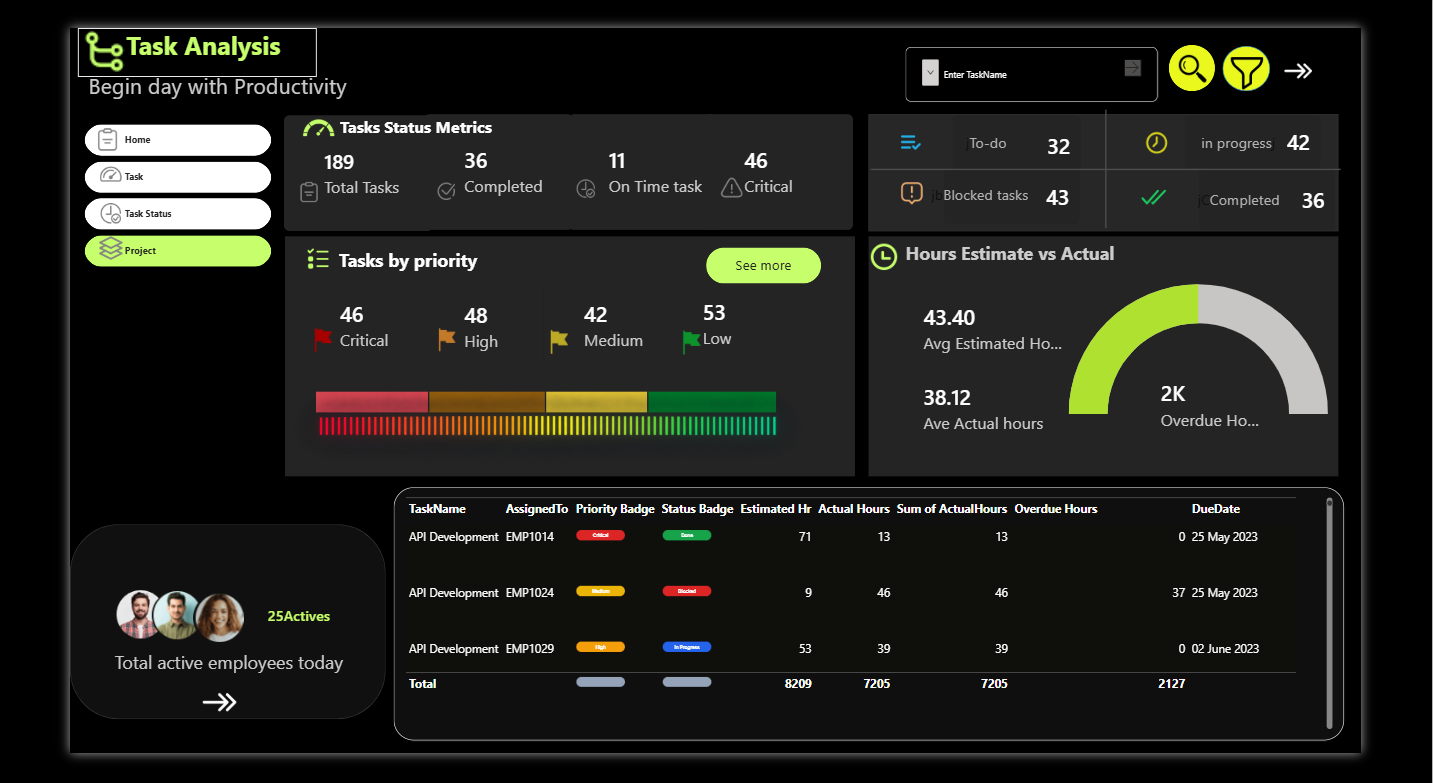

The dashboard page shown, as its layout file describes it:
{"tool":"powerbi","page":{"name":"Project","canvas":[1920,1080],"ordinal":3},"visuals":[{"type":"shape","box":[1715.1,25.9,70.8,67.4],"z":0},{"type":"shape","box":[1635.7,24.2,69.1,69.1],"z":1000},{"type":"shape","box":[0,737.5,469.8,290.2],"z":2000},{"type":"cardVisual","fields":{"Data":["_Measures.Active_Employee_Label"]},"box":[278.4,827.7,165.2,89.1],"z":3000},{"type":"textbox","box":[12.1,0,354.1,72.5],"z":4000},{"type":"pageNavigator","box":[21.7,143.3,278.1,212.4],"z":5000},{"type":"image","box":[43.3,200,35,35],"z":6000},{"type":"image","box":[43.3,258.3,35,35],"z":8000},{"type":"image","box":[43.3,310,35,35],"z":9000},{"type":"textbox","box":[60.5,925.8,364.4,51.8],"z":10000},{"type":"image","box":[29.4,818.7,264.3,107.1],"z":11000},{"type":"image","box":[60.5,977.6,324.7,50.1],"z":12000},{"type":"cardVisual","fields":{"Data":["_Measures.Total Tasks"]},"box":[318.2,129.9,222.7,172.6],"z":13000},{"type":"cardVisual","fields":{"Data":["_Measures.Completed Tasks"]},"box":[526.1,129.1,222.7,172.6],"z":14000},{"type":"cardVisual","fields":{"Data":["_Measures.On Time Projects"]},"box":[741.4,129.1,222.7,172.6],"z":15000},{"type":"cardVisual","fields":{"Data":["_Measures.Critical Tasks"]},"box":[943.6,129.1,222.7,172.6],"z":16000},{"type":"image","box":[338.7,226.4,35,35],"z":17000},{"type":"image","box":[540.9,229.4,37.1,26],"z":18000},{"type":"image","box":[964,220.1,42.7,35.3],"z":19000},{"type":"image","box":[748.8,223.8,39,31.5],"z":20000},{"type":"image","box":[338.5,119.2,63.1,57.5],"z":21000},{"type":"textbox","box":[401.8,129.9,302.5,52],"z":22000},{"type":"shape","box":[319.5,309.2,848.1,357.5],"z":23000},{"type":"textbox","box":[400.7,326.4,319.2,55.7],"z":24000},{"type":"image","box":[338.5,326.4,62.2,32.8],"z":25000},{"type":"cardVisual","fields":{"Data":["_Measures.High Tasks"]},"box":[526.2,380.3,178.2,129.9],"z":26000},{"type":"cardVisual","fields":{"Data":["_Measures.Low Tasks"]},"box":[882.1,369.9,203.8,139.9],"z":27000},{"type":"cardVisual","fields":{"Data":["_Measures.Critical Tasks"]},"box":[341.4,378.6,174.4,129.9],"z":28000},{"type":"cardVisual","fields":{"Data":["_Measures.Medium Tasks"]},"box":[705,378.3,185.6,129.9],"z":29000},{"type":"image","box":[357,442.5,40.8,44.5],"z":30000},{"type":"image","box":[541.8,442.5,39,44.5],"z":31000},{"type":"image","box":[704.2,445.9,50.1,41.5],"z":32000},{"type":"image","box":[904.5,445.9,41.5,43.2],"z":33000},{"type":"actionButton","box":[946,326.8,171,53.5],"z":34000},{"type":"textbox","box":[10,63.3,460,66.7],"z":35000},{"type":"barChart","fields":{"Y":["_Measures.Critical Tasks","_Measures.High Tasks","_Measures.Medium Tasks","_Measures.Low Tasks"]},"box":[350.6,445.6,756.5,222.8],"z":36000},{"type":"shape","box":[1188.3,309.2,699.5,357.5],"z":37000},{"type":"shape","box":[1188.3,127.8,699.5,174.4],"z":38000},{"type":"cardVisual","fields":{"Data":["_Measures.Average Estimated Hours"]},"box":[1210.8,404.2,293.6,84.6],"z":39000},{"type":"cardVisual","fields":{"Data":["_Measures.Average Hours per Task"]},"box":[1210.8,509.5,259.1,114],"z":40000},{"type":"textbox","box":[1243.6,316.1,342,51.8],"z":41000},{"type":"image","box":[1191.8,319.5,39.7,41.5],"z":42000},{"type":"gauge","fields":{"Y":["_Measures.Average Hours per Task"]},"box":[1469.9,326.4,418,304],"z":43000},{"type":"cardVisual","fields":{"Data":["_Measures.Overdue Hours"]},"box":[1563.1,509.5,233.2,103.6],"z":44000},{"type":"cardVisual","fields":{"Data":["In Review Tasks.Blocked Tasks"]},"box":[1300.6,210.7,203.8,82.9],"z":45000},{"type":"cardVisual","fields":{"Data":["In Review Tasks.Completed Tasks"]},"box":[1680.6,209,203.8,93.3],"z":46000},{"type":"cardVisual","fields":{"Data":["In Review Tasks.To Do Tasks"]},"box":[1312.7,129.5,191.7,89.8],"z":47000},{"type":"cardVisual","fields":{"Data":["In Review Tasks.In Progress Tasks"]},"box":[1658.1,129.5,203.8,79.5],"z":48000},{"type":"image","box":[1231.5,150.3,39.7,39.7],"z":49000},{"type":"image","box":[1585.6,226.3,55.3,50.1],"z":50000},{"type":"image","box":[1222.9,226.3,58.7,38],"z":51000},{"type":"image","box":[1585.6,152,63.9,38],"z":52000},{"type":"textbox","box":[1333.4,155.5,81.2,31.1],"z":53000},{"type":"textbox","box":[1678.9,240.1,148.5,31.1],"z":54000},{"type":"textbox","box":[1281.6,233.2,153.7,34.5],"z":55000},{"type":"textbox","box":[1678.9,155.5,141.6,29.4],"z":56000},{"type":"shape","box":[1191.8,198.6,699.5,24.2],"z":57000},{"type":"shape","box":[1191.8,120.9,699.5,176.2],"z":58000},{"type":"image","box":[1649.5,39.7,41.5,41.5],"z":60000},{"type":"image","box":[1718.6,43.2,65.6,48.4],"z":61000},{"type":"image","box":[1799.8,43.2,55.3,41.5],"z":62000},{"type":"textSlicer","fields":{"Values":["Tasks.TaskName"]},"box":[1243.6,27.6,374.8,81.2],"z":63000},{"type":"tableEx","fields":{"Values":["Tasks.TaskName","Tasks.AssignedTo","Tasks.Priority Badge","Tasks.Status Badge","Sum(Tasks.EstimatedHours)","In Review Tasks.Actual Hours","Sum(Tasks.ActualHours)","In Review Tasks.Overdue Hours","Tasks.DueDate"]},"box":[481.7,683.3,1414.6,376.5],"z":64000},{"type":"image","box":[310,443.3,808.3,318.3],"z":64001},{"type":"image","box":[0,0,105,70],"z":64002},{"type":"image","box":[11.7,146.7,88.3,38.3],"z":64003}]}

Visuals, with their boxes in screenshot pixels (x1, y1, x2, y2), scaled from the page's 1920x1080 canvas onto the 1433x783 screenshot:
shape: box=[1280, 19, 1333, 68]
shape: box=[1221, 18, 1272, 68]
shape: box=[0, 535, 351, 745]
cardVisual - _Measures.Active_Employee_Label: box=[208, 600, 331, 665]
textbox: box=[9, 0, 273, 53]
pageNavigator: box=[16, 104, 224, 258]
image: box=[32, 145, 58, 170]
image: box=[32, 187, 58, 213]
image: box=[32, 225, 58, 250]
textbox: box=[45, 671, 317, 709]
image: box=[22, 594, 219, 671]
image: box=[45, 709, 287, 745]
cardVisual - _Measures.Total Tasks: box=[237, 94, 404, 219]
cardVisual - _Measures.Completed Tasks: box=[393, 94, 559, 219]
cardVisual - _Measures.On Time Projects: box=[553, 94, 720, 219]
cardVisual - _Measures.Critical Tasks: box=[704, 94, 870, 219]
image: box=[253, 164, 279, 190]
image: box=[404, 166, 431, 185]
image: box=[719, 160, 751, 185]
image: box=[559, 162, 588, 185]
image: box=[253, 86, 300, 128]
textbox: box=[300, 94, 526, 132]
shape: box=[238, 224, 871, 483]
textbox: box=[299, 237, 537, 277]
image: box=[253, 237, 299, 260]
cardVisual - _Measures.High Tasks: box=[393, 276, 526, 370]
cardVisual - _Measures.Low Tasks: box=[658, 268, 810, 370]
cardVisual - _Measures.Critical Tasks: box=[255, 274, 385, 369]
cardVisual - _Measures.Medium Tasks: box=[526, 274, 665, 368]
image: box=[266, 321, 297, 353]
image: box=[404, 321, 433, 353]
image: box=[526, 323, 563, 353]
image: box=[675, 323, 706, 355]
actionButton: box=[706, 237, 834, 276]
textbox: box=[7, 46, 351, 94]
barChart - _Measures.Critical Tasks x _Measures.High Tasks: box=[262, 323, 826, 485]
shape: box=[887, 224, 1409, 483]
shape: box=[887, 93, 1409, 219]
cardVisual - _Measures.Average Estimated Hours: box=[904, 293, 1123, 354]
cardVisual - _Measures.Average Hours per Task: box=[904, 369, 1097, 452]
textbox: box=[928, 229, 1183, 267]
image: box=[890, 232, 919, 262]
gauge - _Measures.Average Hours per Task: box=[1097, 237, 1409, 457]
cardVisual - _Measures.Overdue Hours: box=[1167, 369, 1341, 444]
cardVisual - In Review Tasks.Blocked Tasks: box=[971, 153, 1123, 213]
cardVisual - In Review Tasks.Completed Tasks: box=[1254, 152, 1406, 219]
cardVisual - In Review Tasks.To Do Tasks: box=[980, 94, 1123, 159]
cardVisual - In Review Tasks.In Progress Tasks: box=[1238, 94, 1390, 152]
image: box=[919, 109, 949, 138]
image: box=[1183, 164, 1225, 200]
image: box=[913, 164, 957, 192]
image: box=[1183, 110, 1231, 138]
textbox: box=[995, 113, 1056, 135]
textbox: box=[1253, 174, 1364, 197]
textbox: box=[957, 169, 1071, 194]
textbox: box=[1253, 113, 1359, 134]
shape: box=[890, 144, 1412, 162]
shape: box=[890, 88, 1412, 215]
image: box=[1231, 29, 1262, 59]
image: box=[1283, 31, 1332, 66]
image: box=[1343, 31, 1385, 61]
textSlicer - Tasks.TaskName: box=[928, 20, 1208, 79]
tableEx - Tasks.TaskName x Tasks.AssignedTo: box=[360, 495, 1415, 768]
image: box=[231, 321, 835, 552]
image: box=[0, 0, 78, 51]
image: box=[9, 106, 75, 134]
